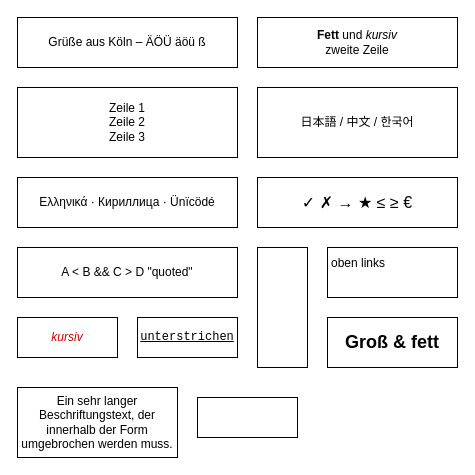
Image size: 475x475. Some labels were removed from this diagram. Here are the shapes that lost their labels. From the top down, the box of each, then its label:
(256, 246, 308, 368): Vertikal
(196, 396, 298, 438): Ohne Umbruch, ragt hinaus
